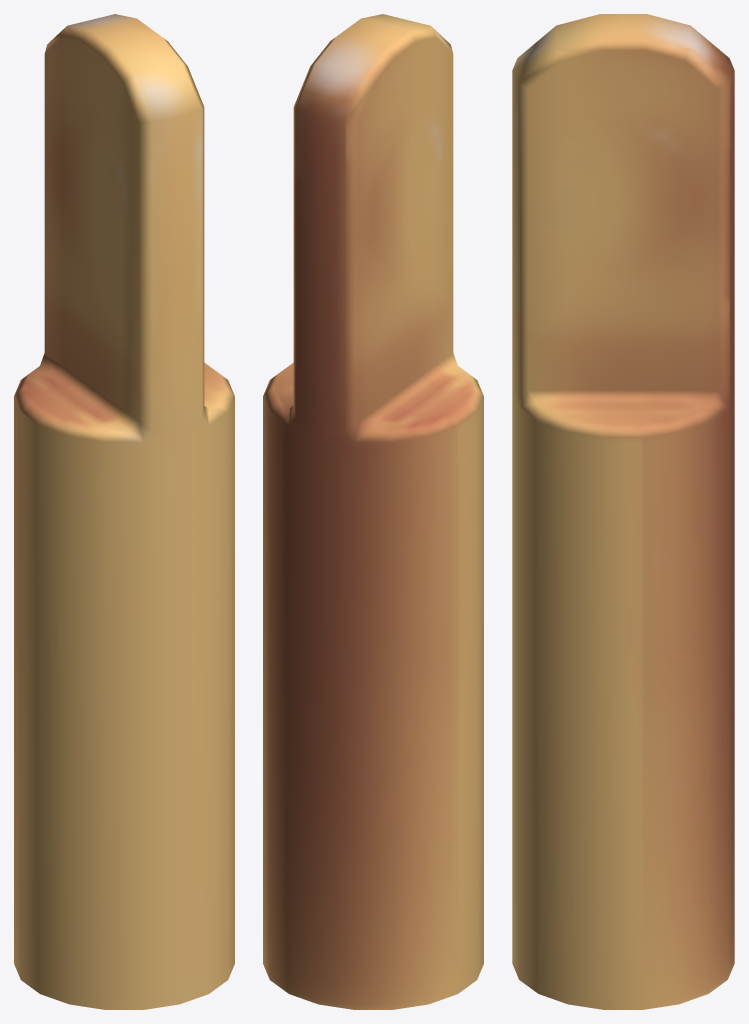
Rendered from CommunityRoomB_InformationBoardB02.fbx.
The picture shows the model from 3 angles, left to right: view 1: azimuth 30°, elevation 25°; view 2: azimuth 150°, elevation 25°; view 3: azimuth 270°, elevation 25°; orthographic projection.
Visible parts, largest first — view 1: CommunityRoomB_InformationBoardB02; view 2: CommunityRoomB_InformationBoardB02; view 3: CommunityRoomB_InformationBoardB02.
Boxes of the visible parts, x1,y1,x2,y2 form: CommunityRoomB_InformationBoardB02: (14,14,234,1009); CommunityRoomB_InformationBoardB02: (263,14,483,1009); CommunityRoomB_InformationBoardB02: (512,14,734,1009).
Size of the model in its own units: 2.42 by 11.42 by 2.45.
